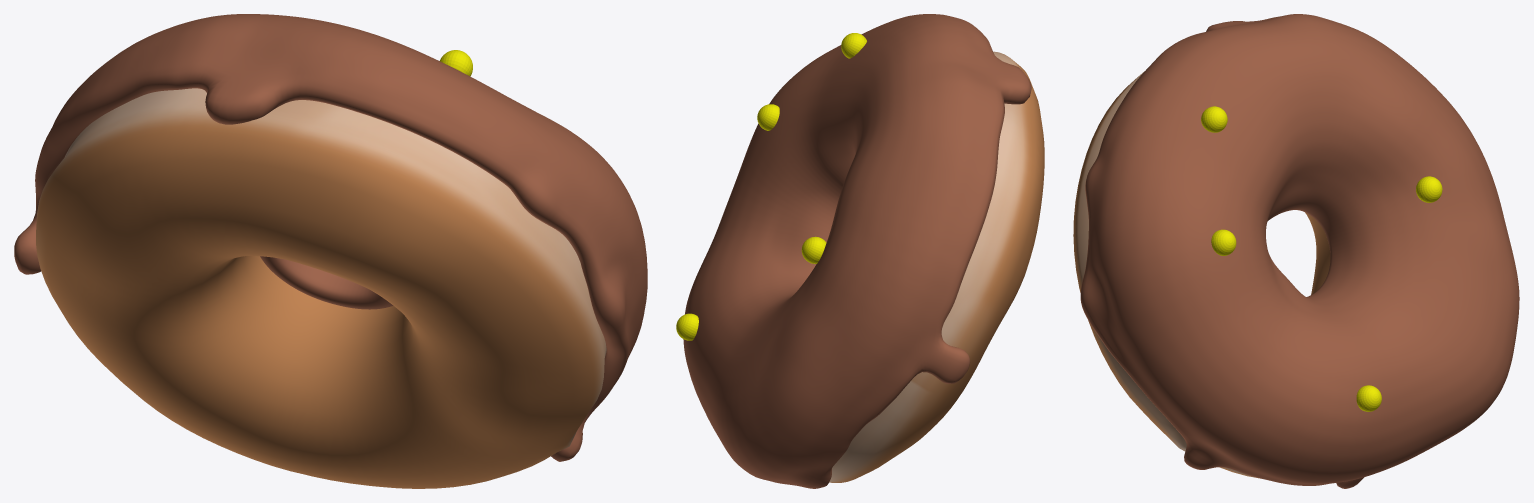
File: BlenderDonut01.glb
The picture shows the model from 3 angles, left to right: view 1: azimuth 30°, elevation 25°; view 2: azimuth 150°, elevation 25°; view 3: azimuth 270°, elevation 25°; orthographic projection. The views are drawn at different scales.
Visible parts, largest first — view 1: Donut, Icing; view 2: Icing, Donut, Sphere, Sphere.003, Sphere.001, Sphere.002; view 3: Icing, Donut, Sphere.003, Sphere.002, Sphere, Sphere.001.
Part boxes in pixels (<box>): Donut: <box>36,88,606,488</box>; Icing: <box>14,14,647,461</box>; Icing: <box>683,14,1031,488</box>; Donut: <box>829,51,1044,482</box>; Sphere: <box>676,313,698,340</box>; Sphere.003: <box>801,236,826,263</box>; Sphere.001: <box>757,104,779,130</box>; Sphere.002: <box>841,33,866,58</box>; Icing: <box>1080,14,1519,488</box>; Donut: <box>1073,71,1330,478</box>; Sphere.003: <box>1416,176,1442,202</box>; Sphere.002: <box>1201,106,1227,132</box>; Sphere: <box>1356,385,1381,411</box>; Sphere.001: <box>1211,229,1236,255</box>.
Bounding box in the file's own units: 0.0791 × 0.0859 × 0.0858.
Materials: 3 (1 with a texture image).
